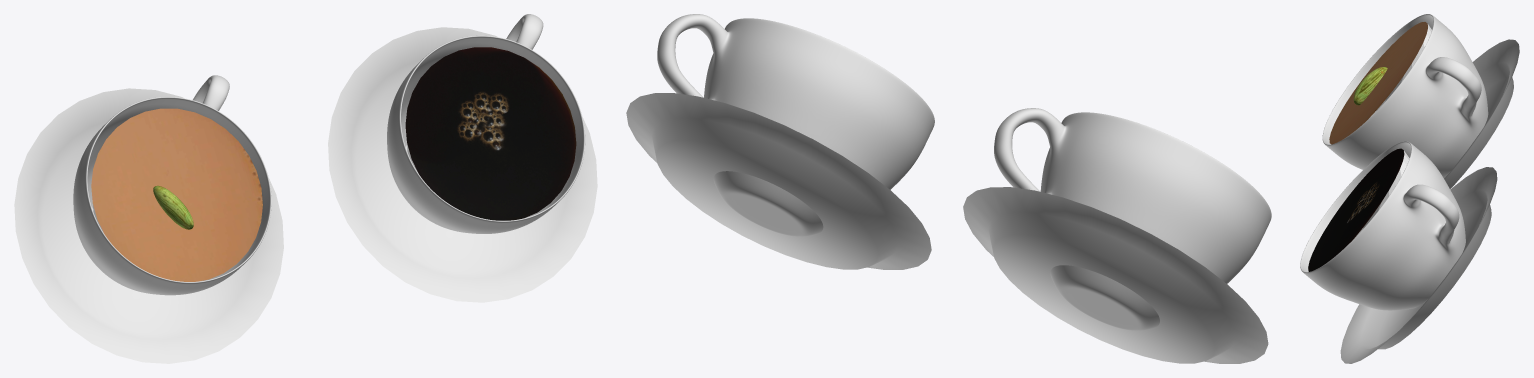
File: chai2.glb
3 renders of one model, left to right at view 1: azimuth 30°, elevation 25°; view 2: azimuth 150°, elevation 25°; view 3: azimuth 270°, elevation 25°, orthographic. The views are drawn at different scales.
Visible parts, largest first — view 1: Circle.001, Circle.003, coffee.002, coffee.001, Cylinder.001, Cylinder, Sphere; view 2: Cylinder.001, Cylinder, Circle.003, Circle.001; view 3: Cylinder.001, Cylinder, Circle.003, coffee.002, coffee.001, Circle.001, Sphere.
Boxes of the visible parts, box(x1,y1,x2,y2) form: Circle.001: box(14, 88, 283, 363); Circle.003: box(328, 27, 597, 302); coffee.002: box(405, 47, 576, 220); coffee.001: box(91, 108, 262, 281); Cylinder.001: box(387, 14, 585, 233); Cylinder: box(73, 75, 271, 295); Sphere: box(153, 185, 193, 229); Cylinder.001: box(657, 14, 934, 236); Cylinder: box(994, 108, 1271, 330); Circle.003: box(626, 93, 931, 269); Circle.001: box(963, 187, 1268, 363); Cylinder.001: box(1300, 141, 1465, 310); Cylinder: box(1322, 14, 1488, 176); Circle.003: box(1340, 167, 1497, 363); coffee.002: box(1308, 148, 1409, 271); coffee.001: box(1329, 22, 1431, 144); Circle.001: box(1443, 39, 1519, 189); Sphere: box(1353, 67, 1387, 105).
Bounding box in the file's own units: 11.9 × 4.85 × 4.82.
7 materials, 3 textured.
